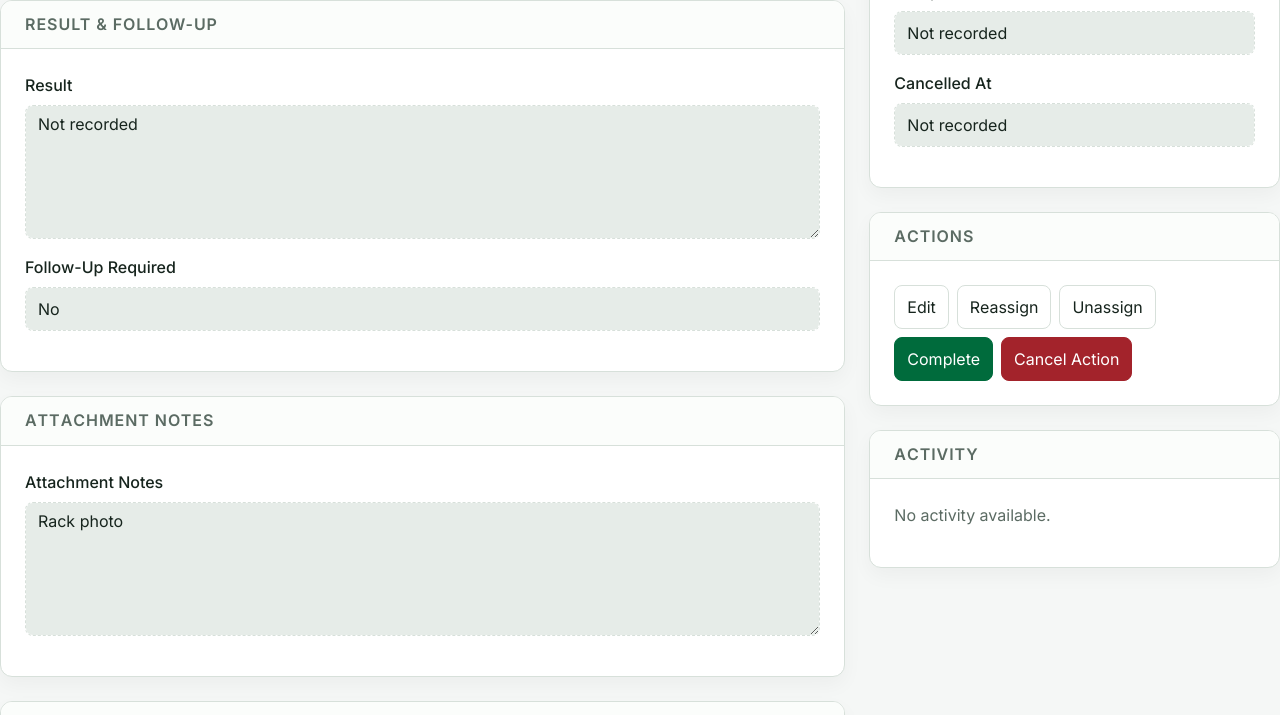
it: Complete validates Result/Follow-Up and sends one atomic request as current Ticket Owner
(page scrolled)
Click the button "Complete" at (944, 359), box [894,337,993,381]
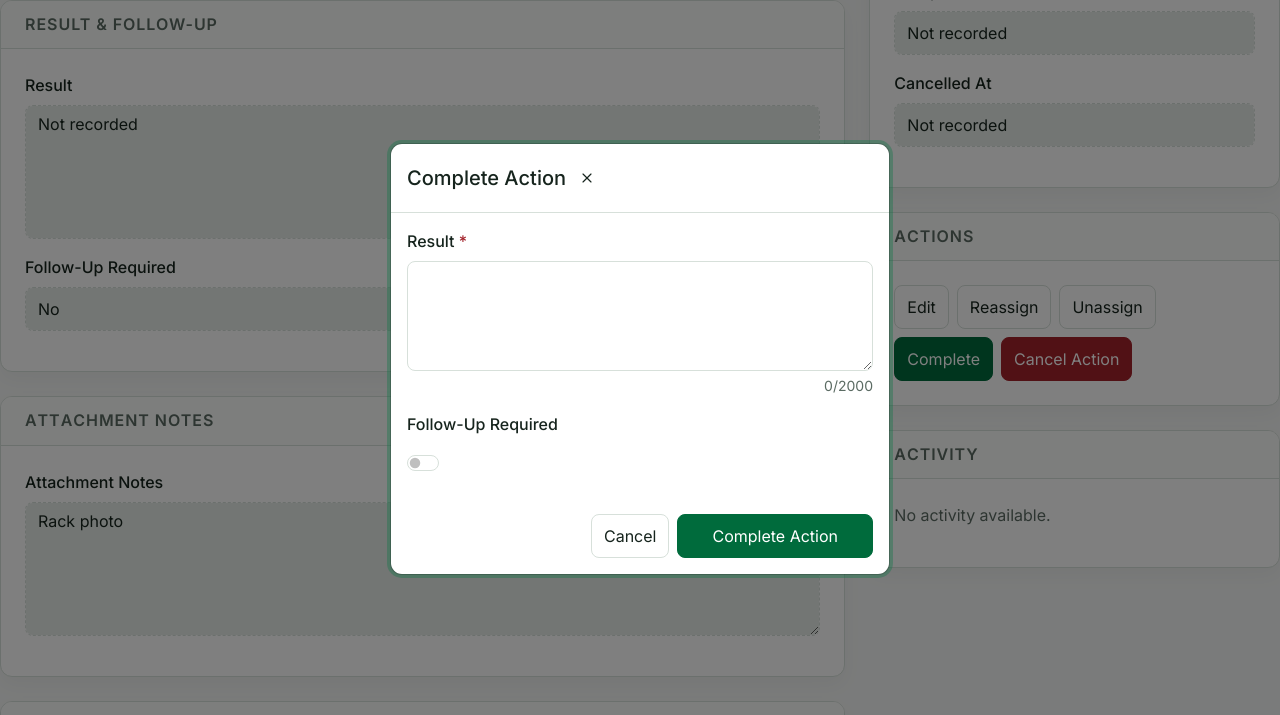
Click the button "Complete Action" at (775, 536), box [678,514,873,558]
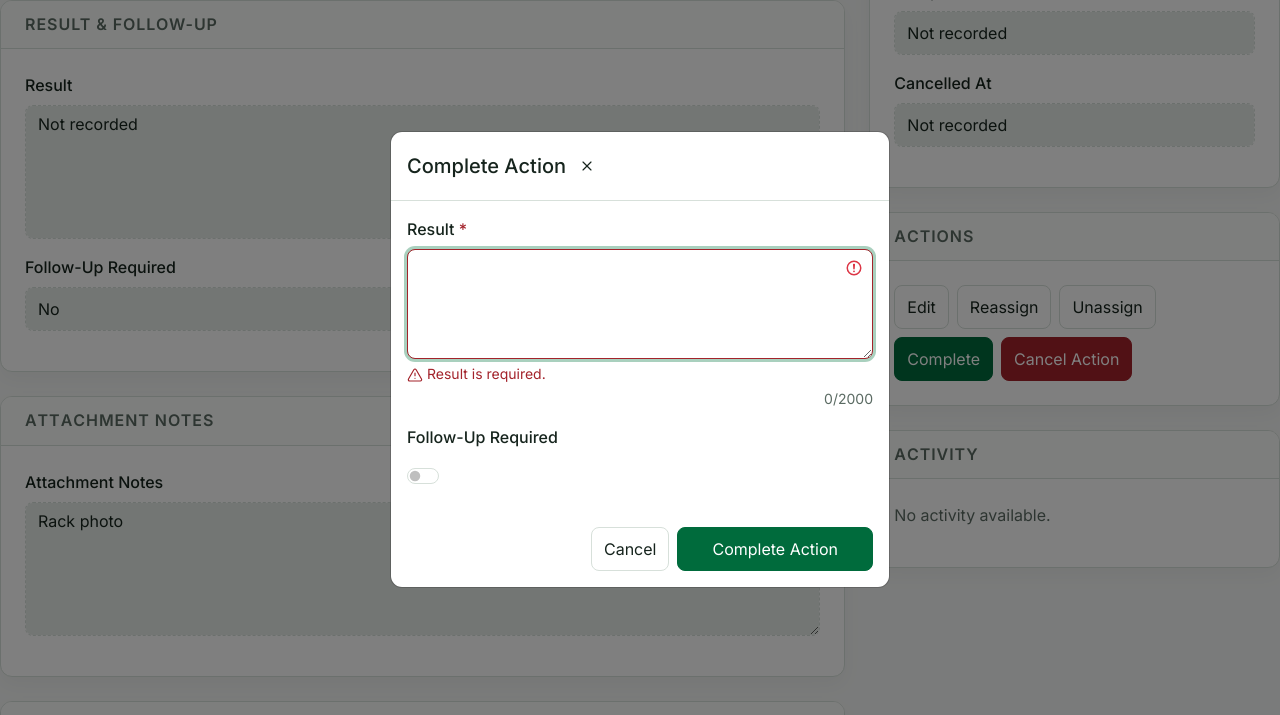
Check: the text box labelled "Result *" is marked as invalid
Type "Cable replaced" into the text box labelled "Result *" at (640, 304), box [407,248,873,358]
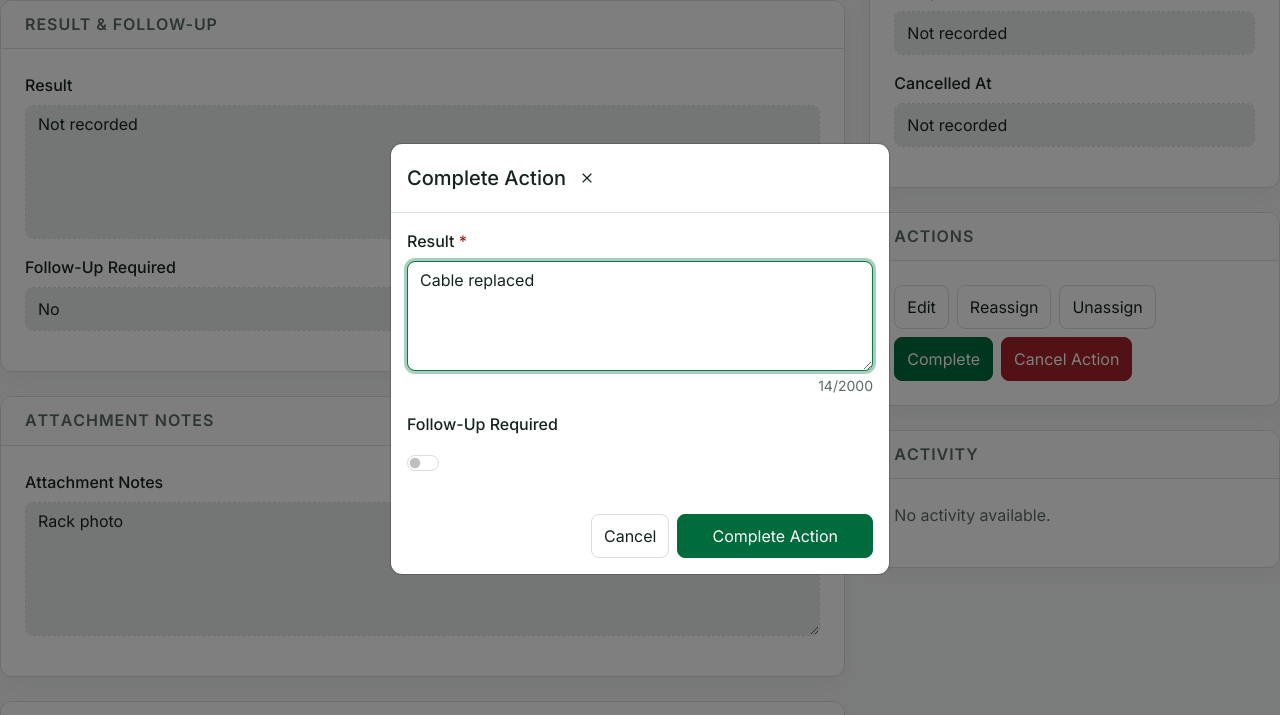
Click the switch labelled "Follow-Up Required" at (423, 463), box [407,455,439,471]
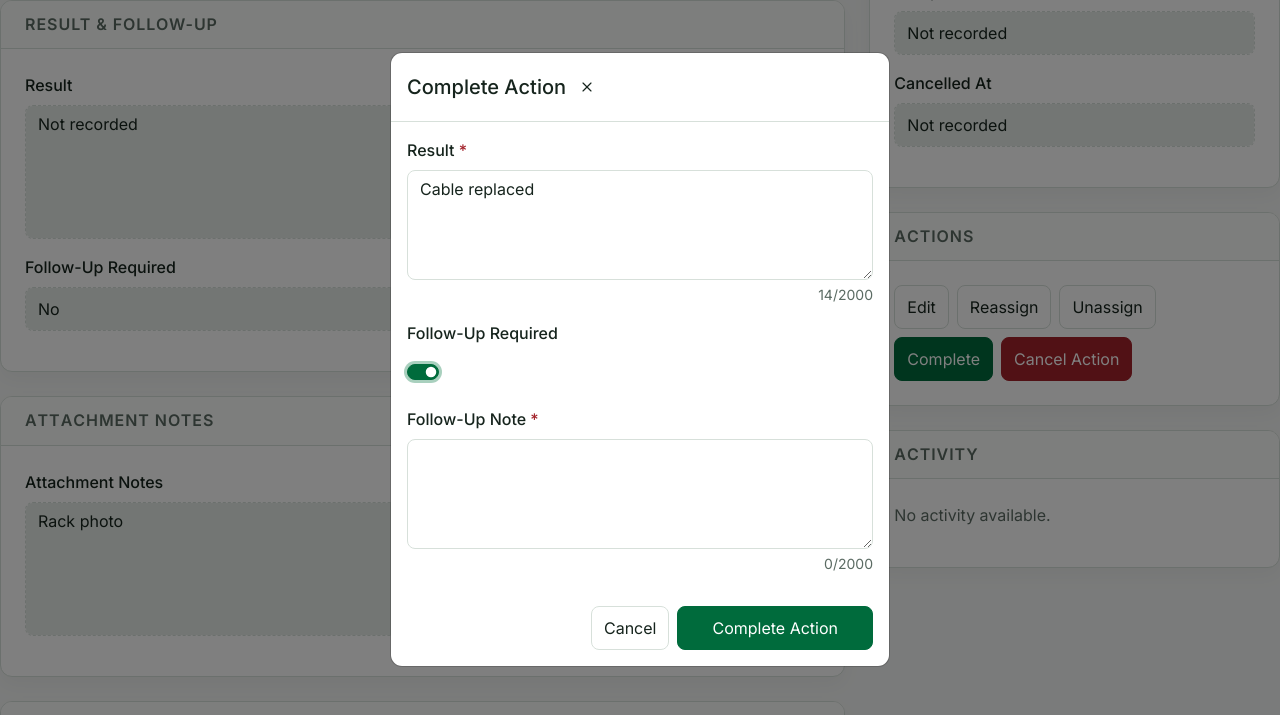
Type "Check tomorrow" into the text box labelled "Follow-Up Note *" at (640, 494), box [407,438,873,548]
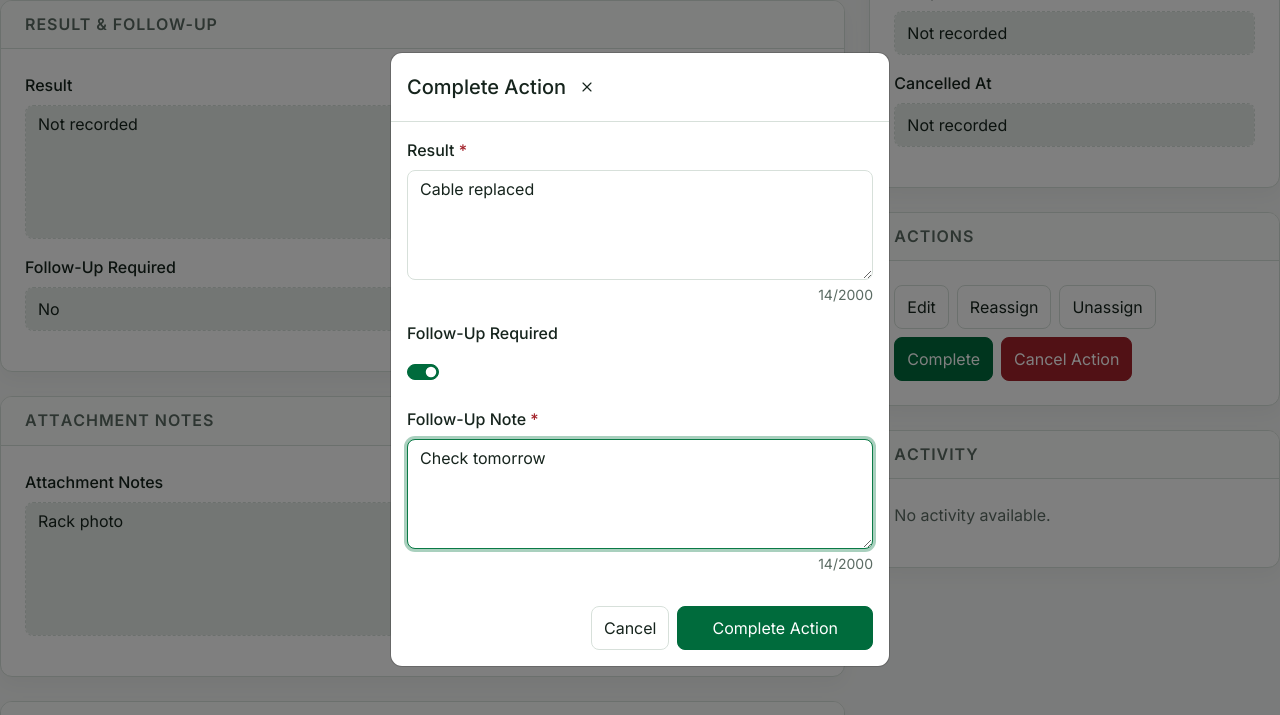
Click the button "Complete Action" at (775, 628), box [678,606,873,650]
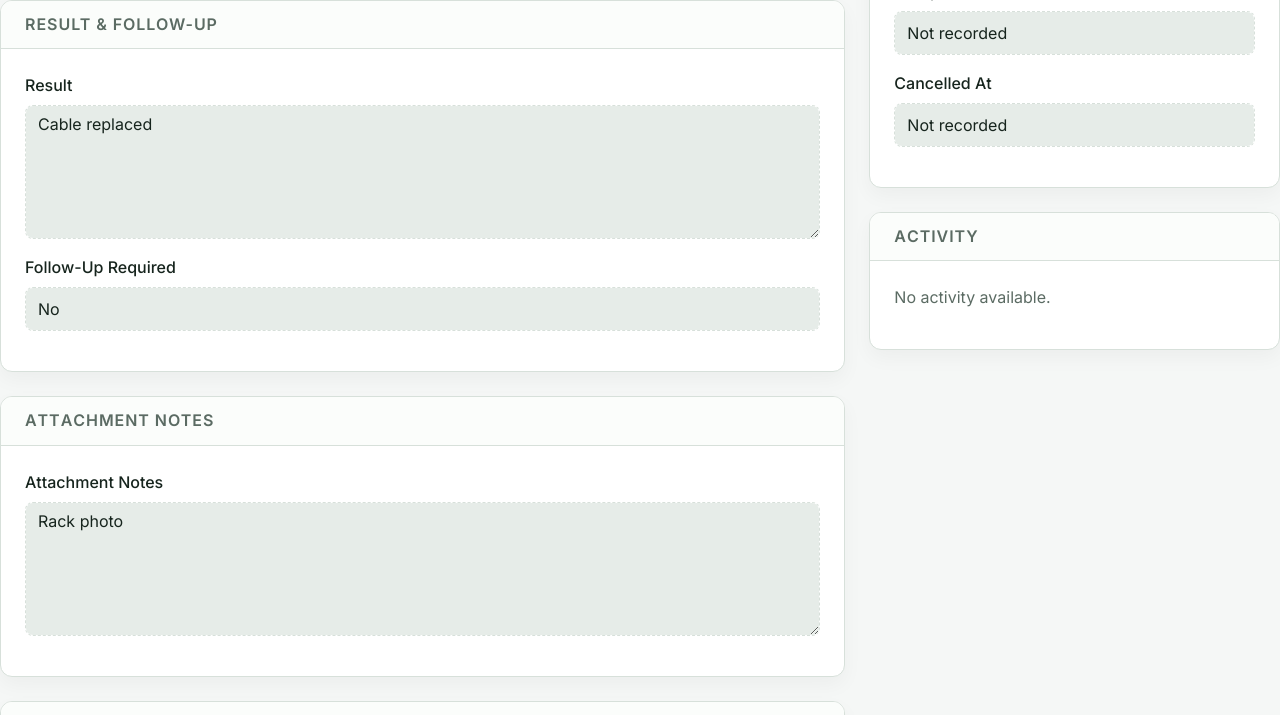
Check: the button "Edit" is gone
